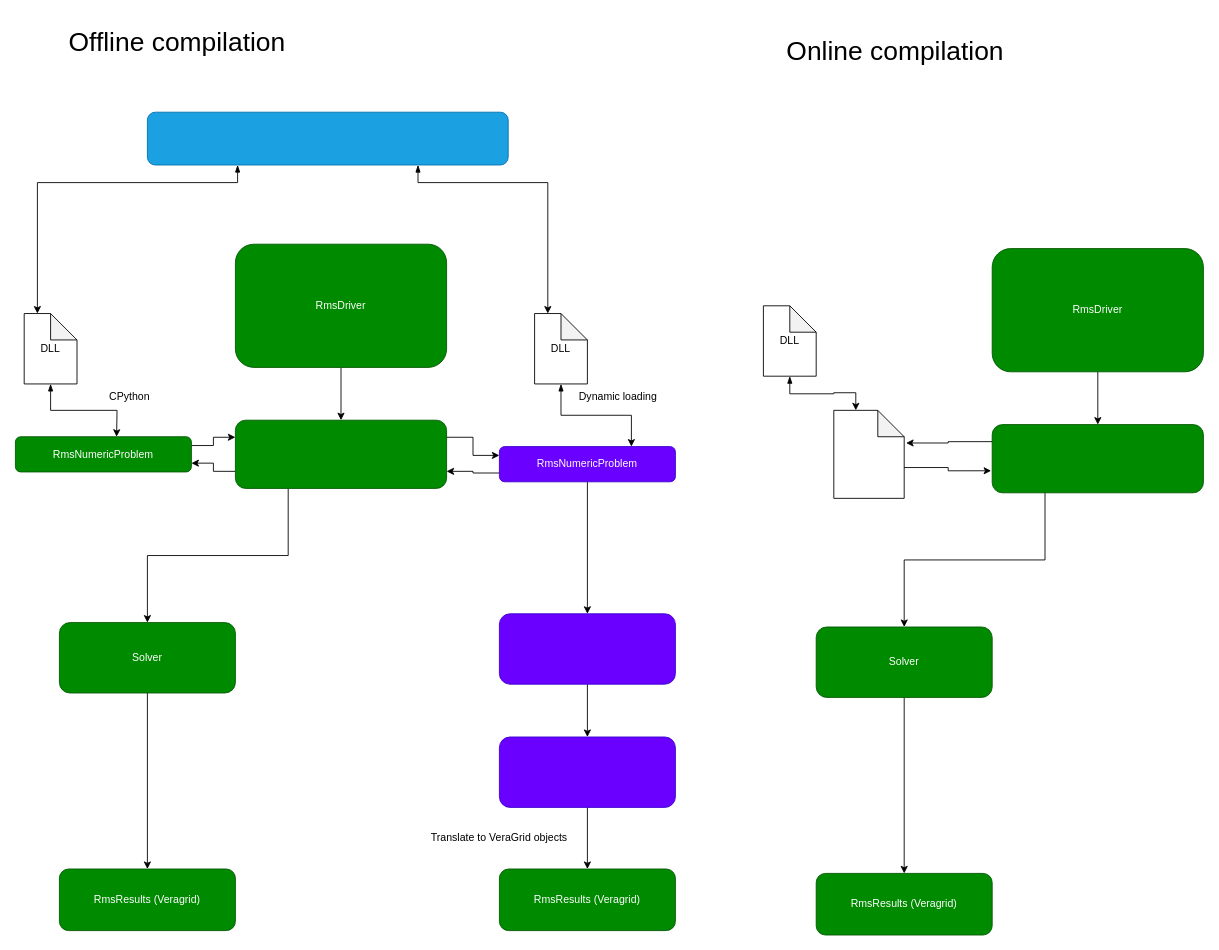
Image size: 1219x950. Some labels were removed from this diagram. The centre of each missing label's shape, as x and y in pixels:
DLL Manager: (327,138)
gslv.Solver: (587,648)
Numba functions: (868,453)
numerical results: (587,771)
RmsProblemDae: (1097,458)
RmsProblemDLL: (341,453)
